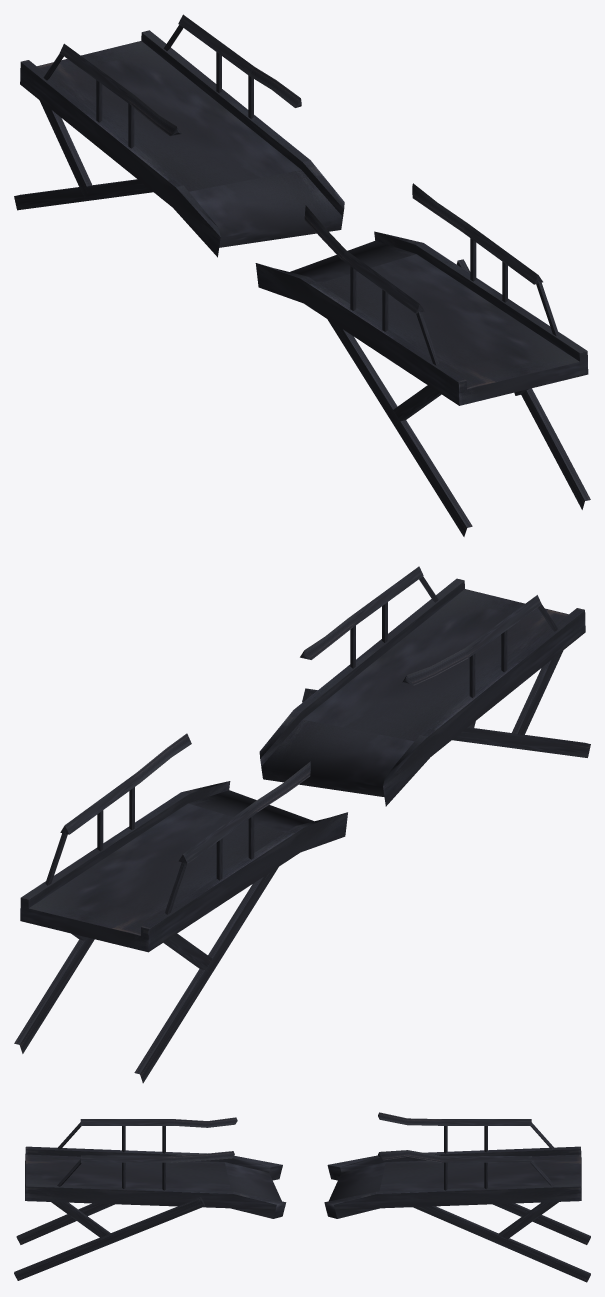
The model's file is desertbridgewreck.gltf.
3 renders of one model, top to bottom at view 1: azimuth 30°, elevation 25°; view 2: azimuth 150°, elevation 25°; view 3: azimuth 270°, elevation 25°, orthographic. The views are drawn at different scales.
Visible parts, largest first — view 1: desertbridgewreck_atomic0; view 2: desertbridgewreck_atomic0; view 3: desertbridgewreck_atomic0.
Boxes of the visible parts, left/top/right/bottom form: desertbridgewreck_atomic0: left=14, top=14, right=590, bottom=536; desertbridgewreck_atomic0: left=14, top=566, right=590, bottom=1083; desertbridgewreck_atomic0: left=14, top=1112, right=590, bottom=1282.
Size of the model in its own units: 59.22 by 77.55 by 312.
1 material, 1 textured.
